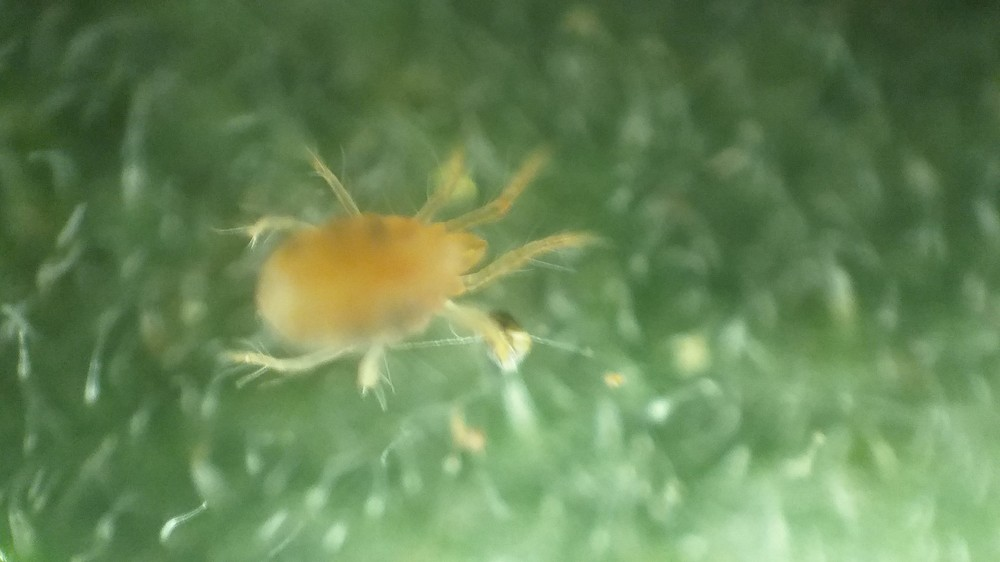Aracnido Rojo: (207, 131, 638, 409)
